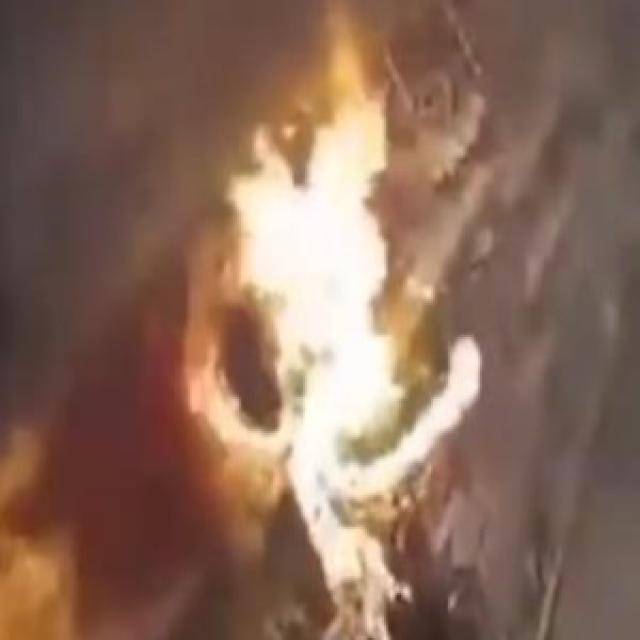Fire: (183, 6, 483, 640)
